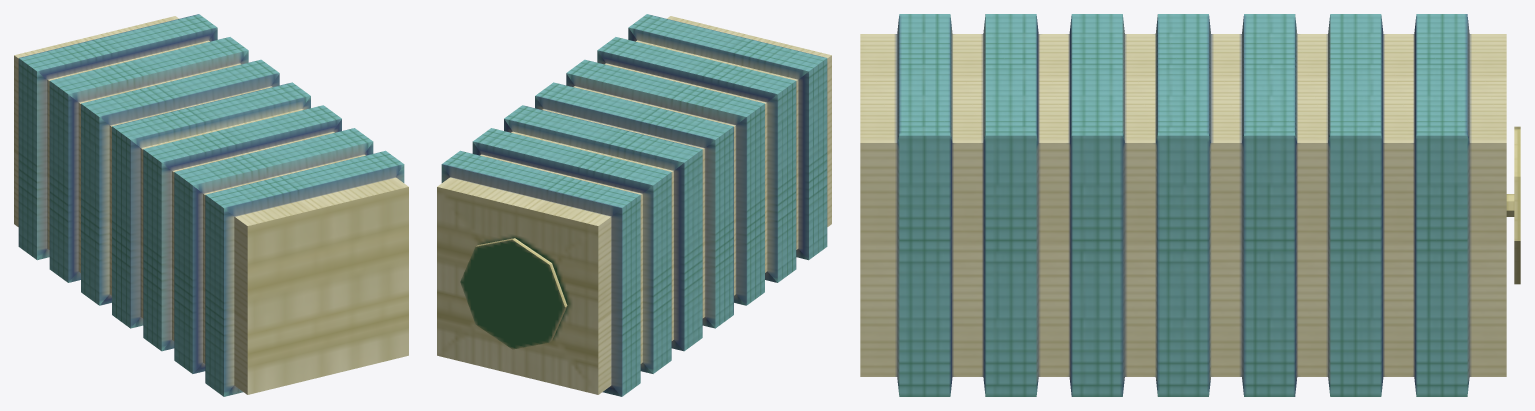
File: buildings-comercial-09.obj
3 renders of one model, left to right at view 1: azimuth 30°, elevation 25°; view 2: azimuth 150°, elevation 25°; view 3: azimuth 270°, elevation 25°, orthographic. The views are drawn at different scales.
Visible parts, largest first — view 1: buildings-comercial-09_Cube.100; view 2: buildings-comercial-09_Cube.100; view 3: buildings-comercial-09_Cube.100.
Boxes of the visible parts, <box> form: buildings-comercial-09_Cube.100: <box>14,14,408,396</box>; buildings-comercial-09_Cube.100: <box>437,14,831,396</box>; buildings-comercial-09_Cube.100: <box>860,14,1520,396</box>.
Size of the model in its own units: 4.46 by 4.46 by 10.22.
